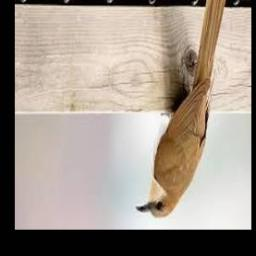Cuckoo: (135, 0, 227, 218)
